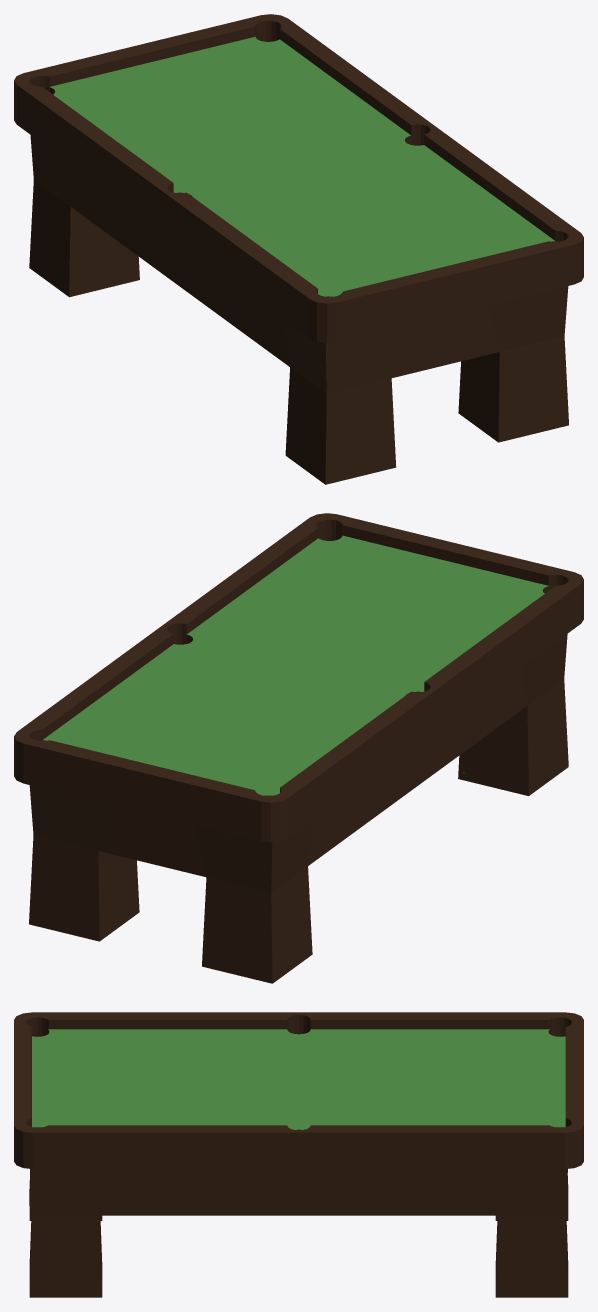
The model's file is Table.fbx.
The picture shows the model from 3 angles, top to bottom: view 1: azimuth 30°, elevation 25°; view 2: azimuth 150°, elevation 25°; view 3: azimuth 270°, elevation 25°; orthographic projection. The views are drawn at different scales.
Visible parts, largest first — view 1: Table; view 2: Table; view 3: Table.
Part boxes in pixels (x1,y1,x2,y2): Table: (14, 14, 583, 484); Table: (14, 513, 583, 983); Table: (14, 1012, 583, 1297).
Size of the model in its own units: 24 by 48 by 15.87.
